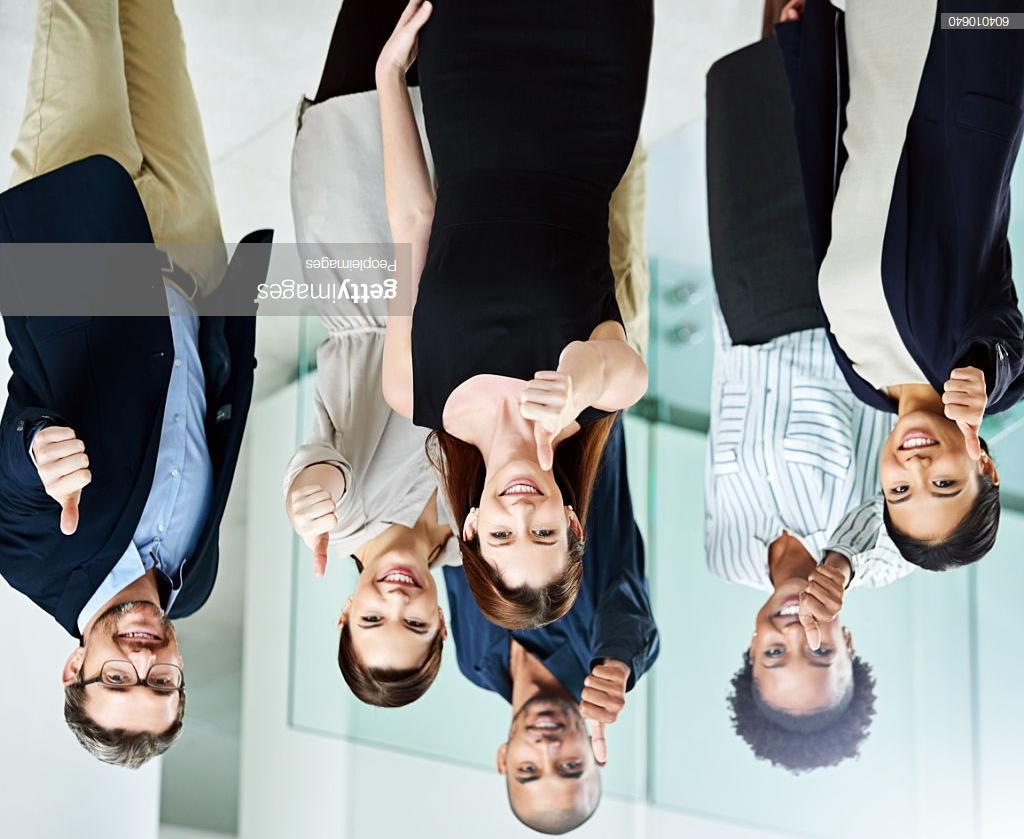thumbsdown: (34, 426, 92, 536), (519, 371, 573, 472), (579, 665, 626, 763), (290, 484, 338, 578), (942, 368, 988, 460), (800, 565, 846, 651)
